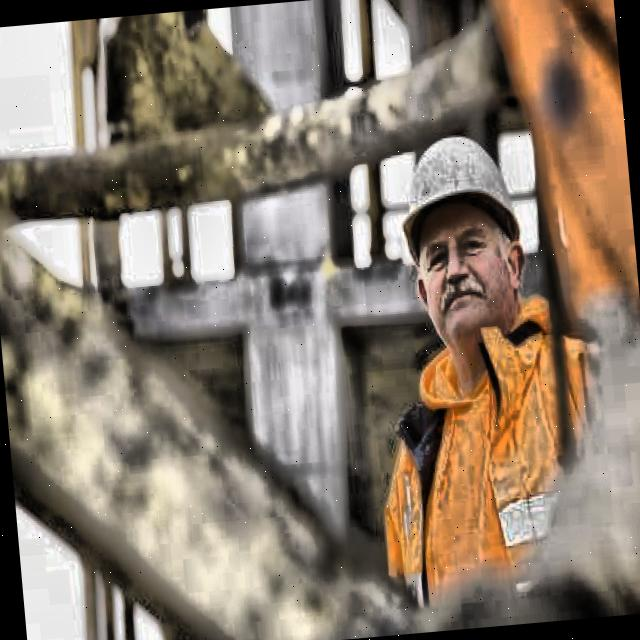helmet: (380, 99, 547, 381)
